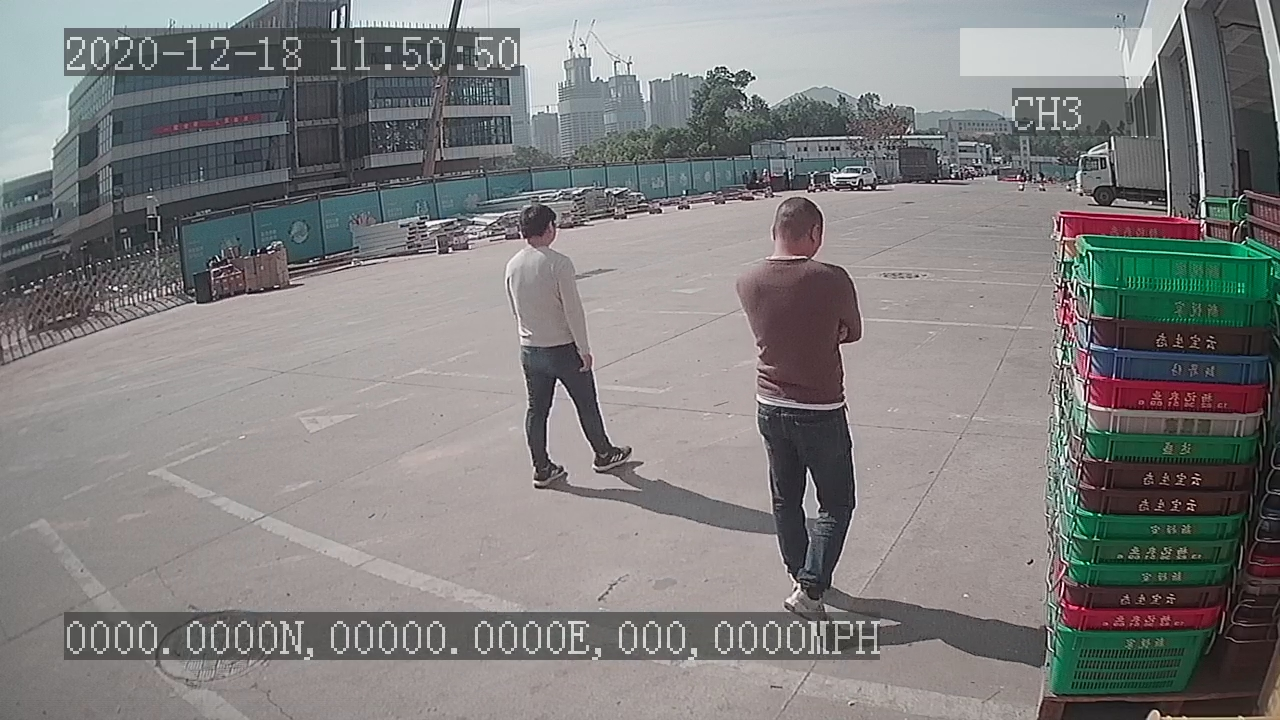person: (499, 199, 643, 497)
